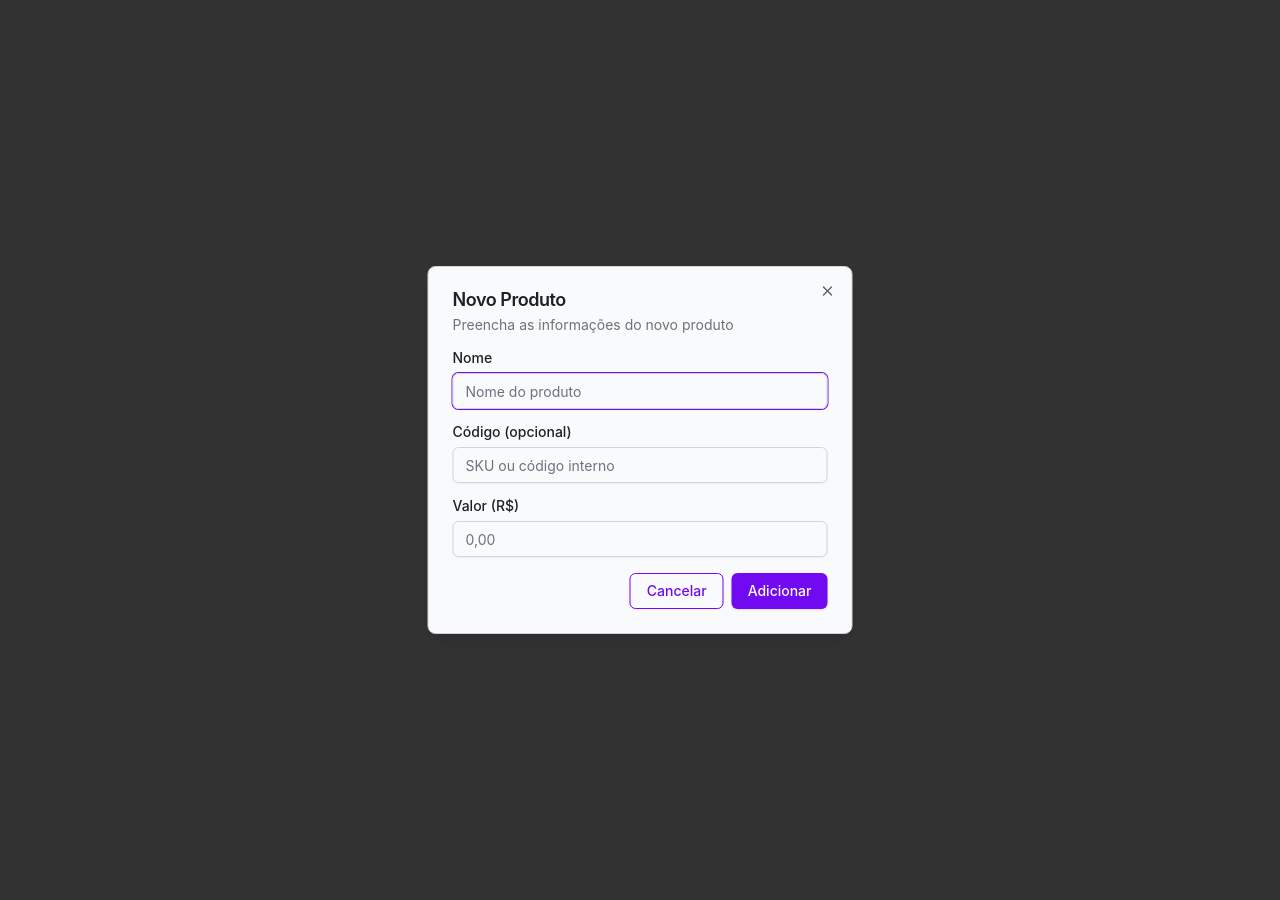
Test case: FormularioProduto › validation › deve exibir erro quando valor está vazio
Type "Produto Teste" into the field labelled "Nome" at (640, 391), box x1=452 y1=373 x2=828 y2=409
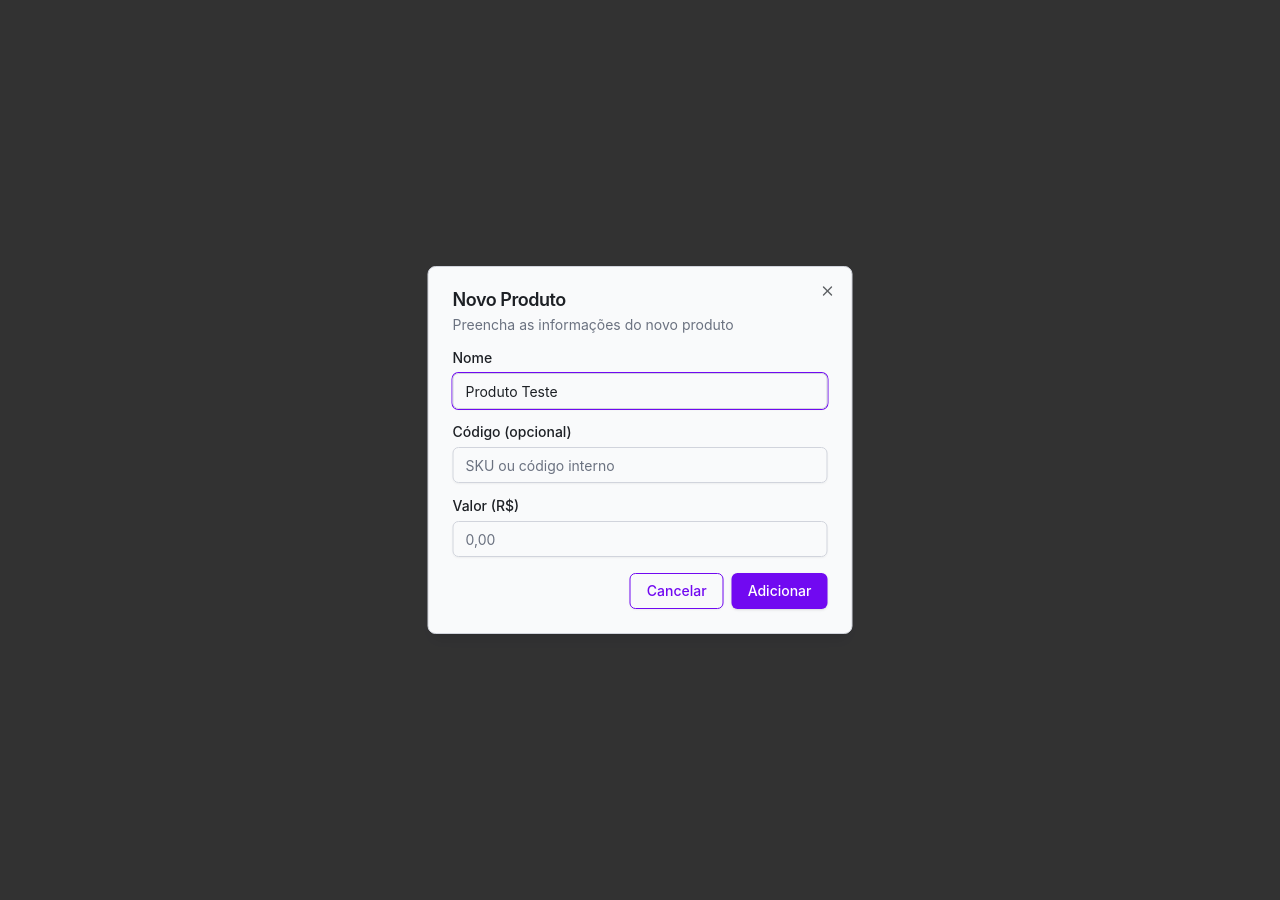
Click the button "Adicionar" at (780, 591), box x1=732 y1=573 x2=828 y2=609
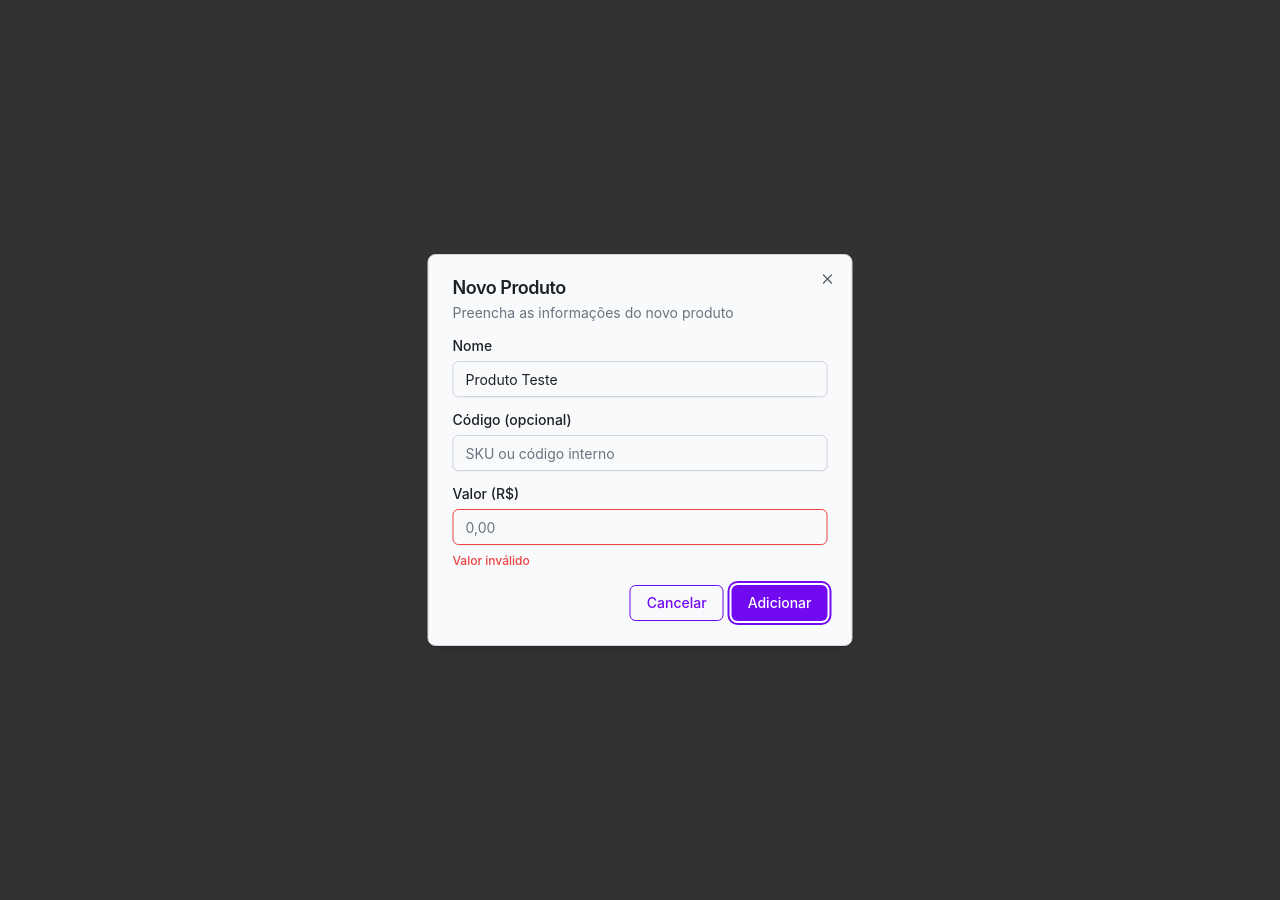
Result: the text "Valor inválido" is shown at x1=452 y1=553 x2=530 y2=568
